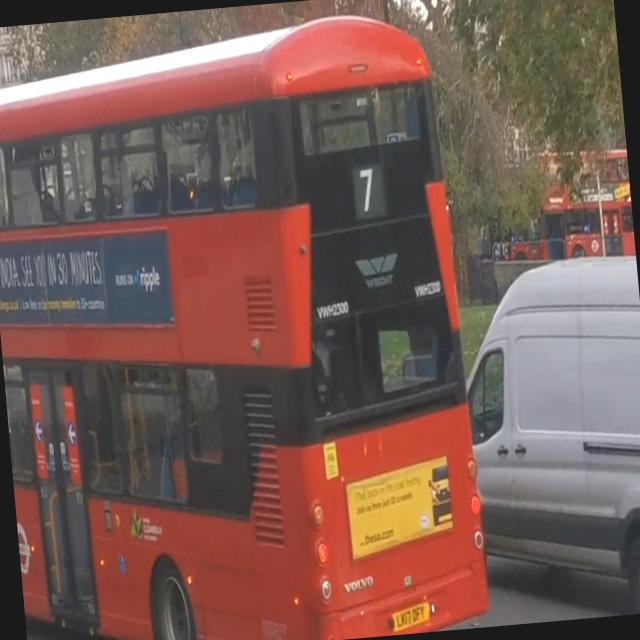Vehicle: (0, 4, 478, 640), (451, 251, 640, 627)
